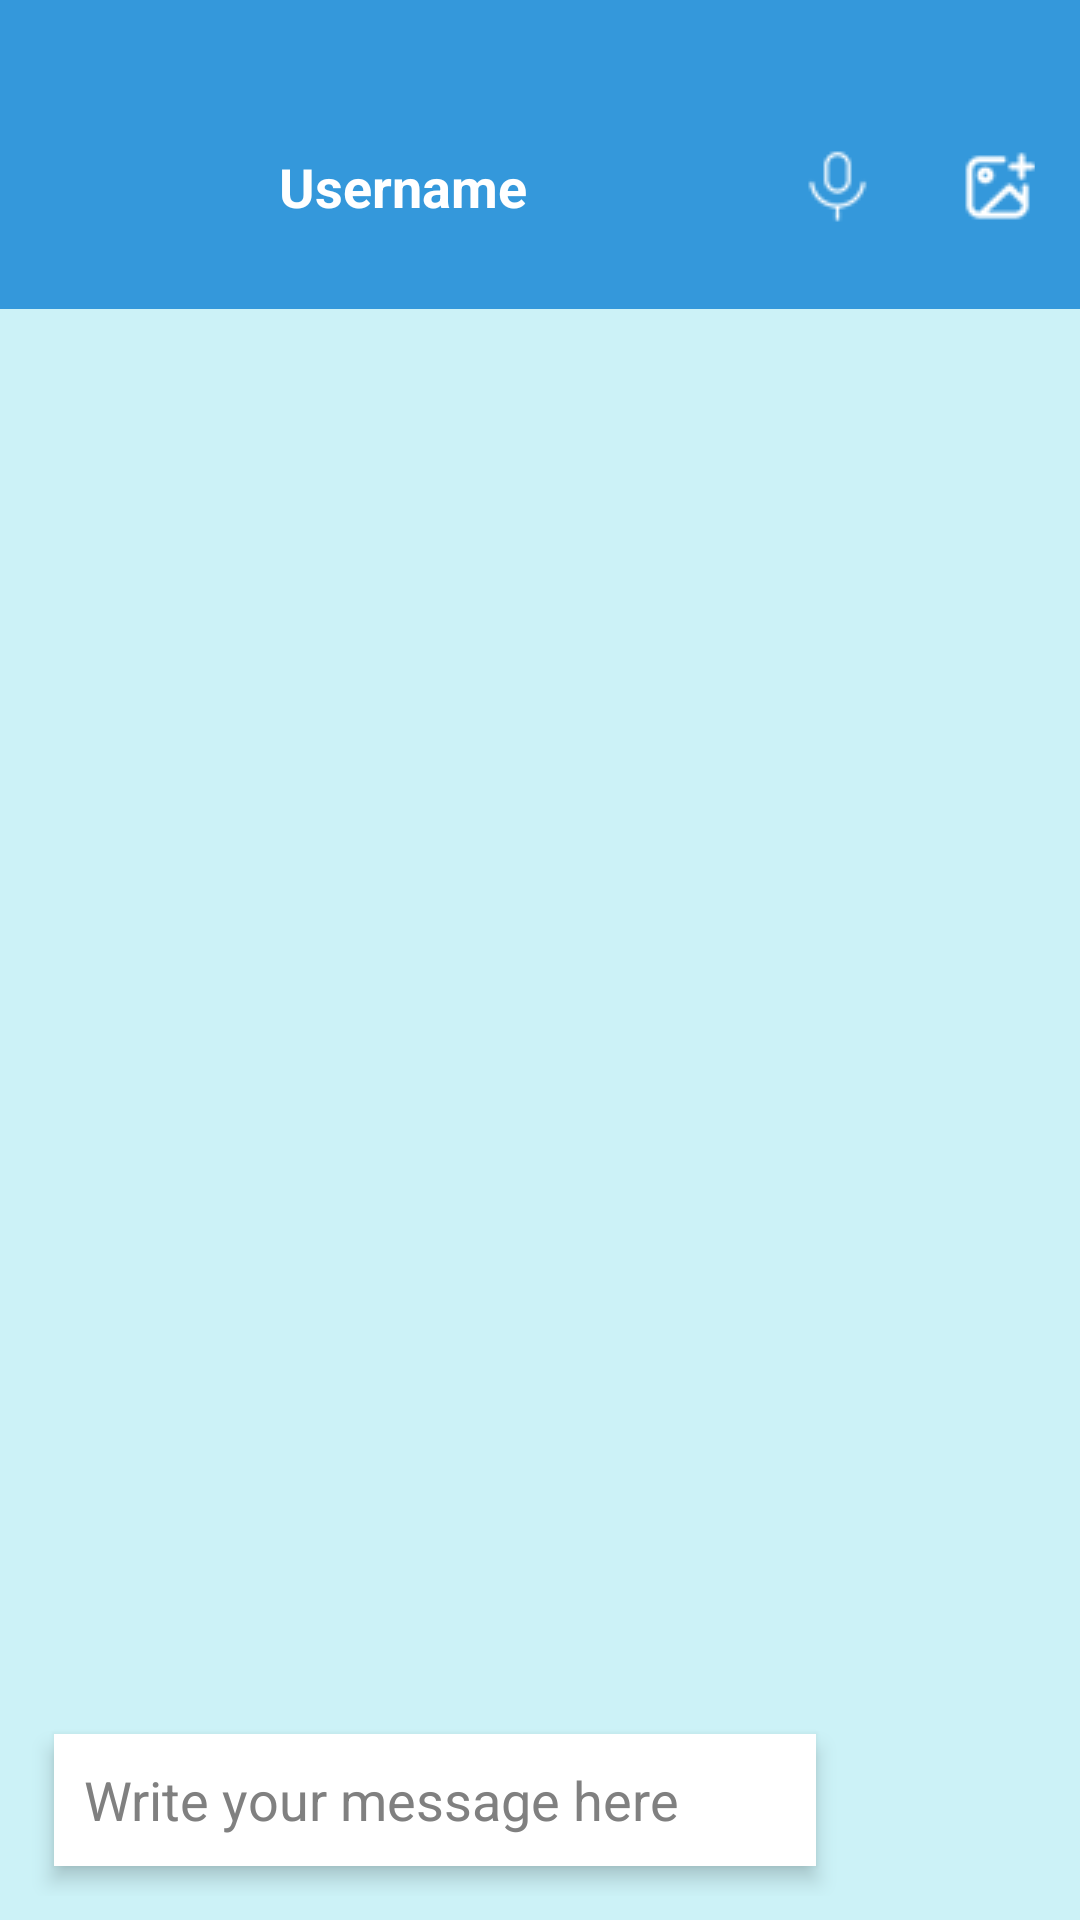

Locate icon controls on the screen. Image size 1080*1920, boxes as (x1, y1, x2, y2).
images: (965, 152, 1035, 220)
mic: (808, 151, 867, 222)
